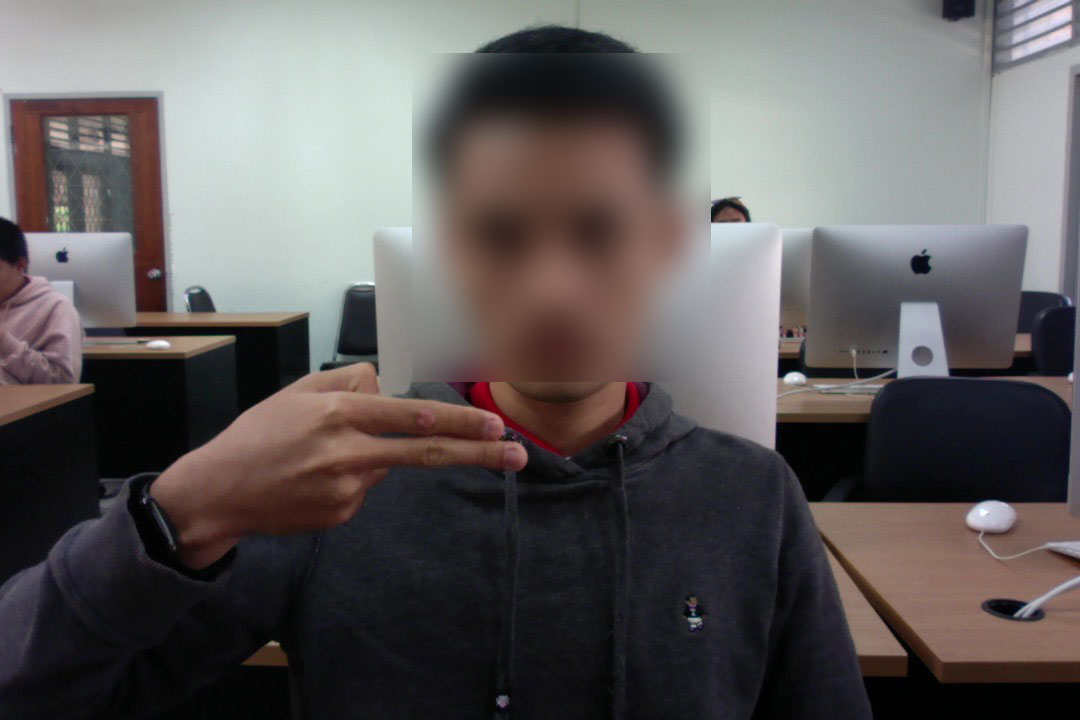hor: (144, 352, 548, 548)
